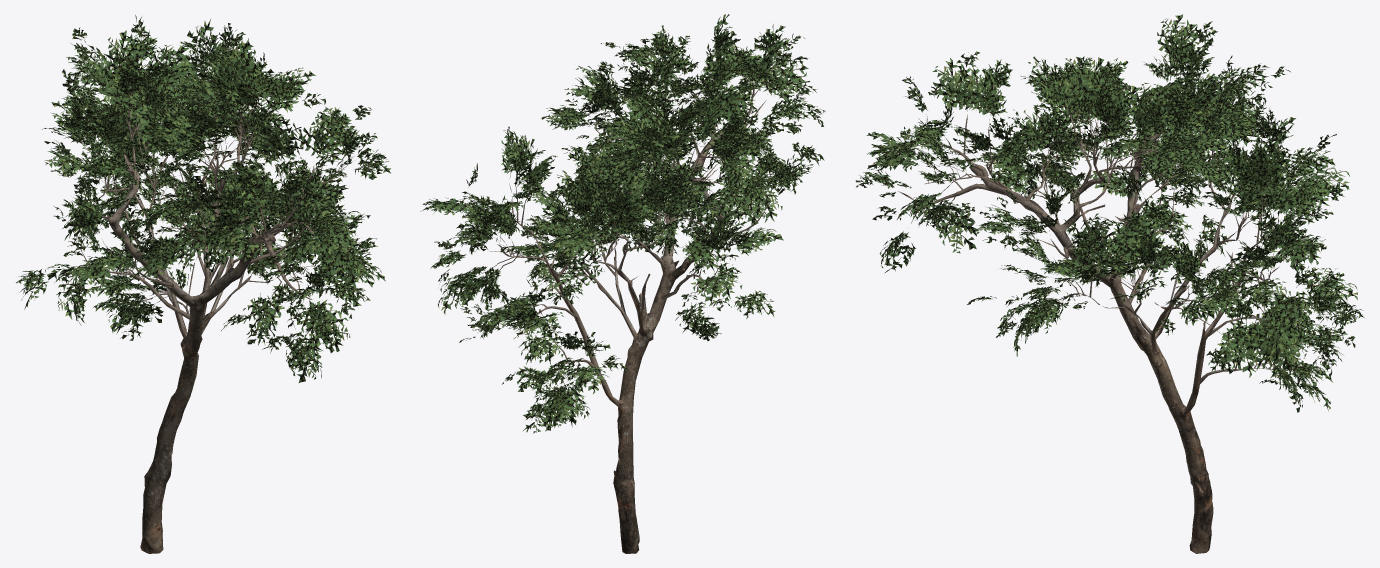
Rendered from tree-near.glb.
3 renders of one model, left to right at view 1: azimuth 30°, elevation 25°; view 2: azimuth 150°, elevation 25°; view 3: azimuth 270°, elevation 25°, orthographic. The views are drawn at different scales.
Visible parts, largest first — view 1: tree_small_02_LOD0; view 2: tree_small_02_LOD0; view 3: tree_small_02_LOD0.
Boxes of the visible parts, x1,y1,x2,y2 form: tree_small_02_LOD0: [16, 15, 390, 553]; tree_small_02_LOD0: [420, 14, 826, 553]; tree_small_02_LOD0: [855, 14, 1364, 553].
Size of the model in its own units: 2.95 by 4.57 by 4.26.
3 materials, 3 textured.
